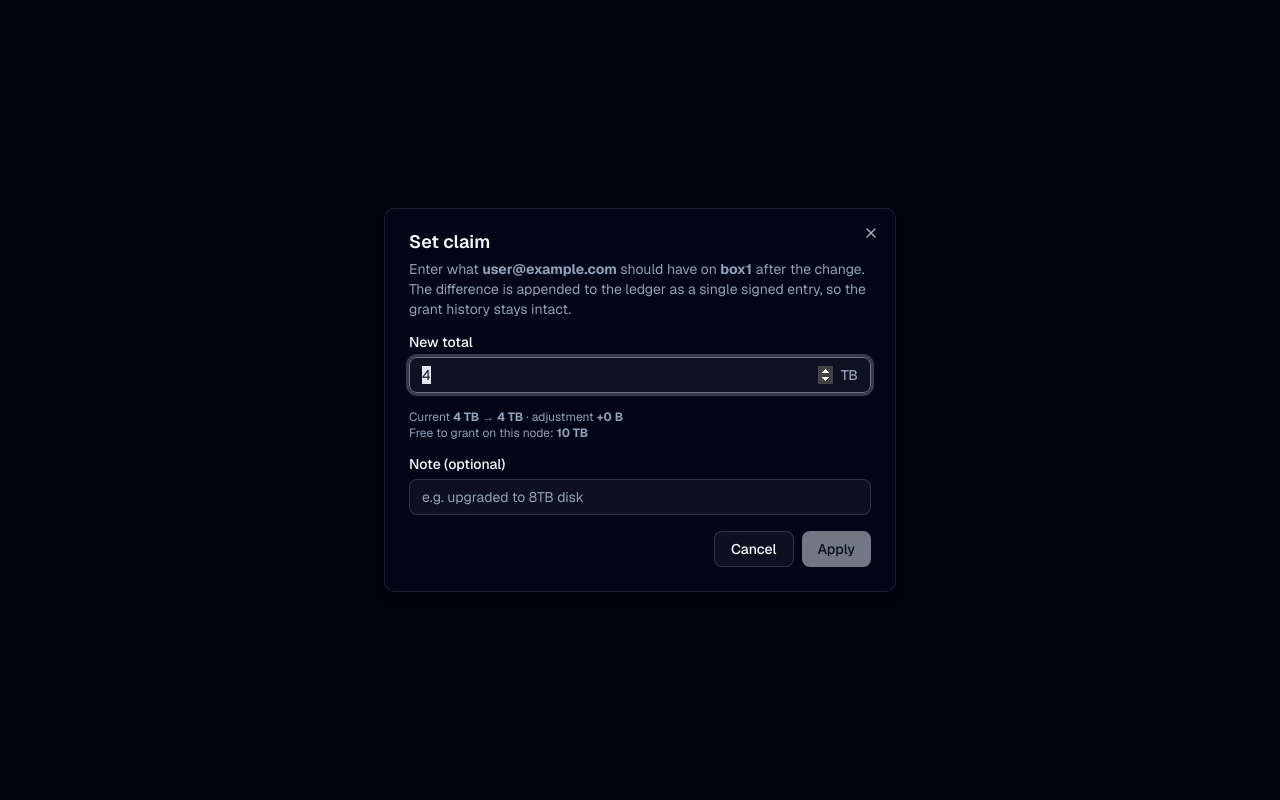
SetClaimDialog › shows the signed delta as the admin types
The image size is (1280, 800).
Replace the text in the number field labelled "New total" with "6" at (625, 375), box [410,357,841,393]
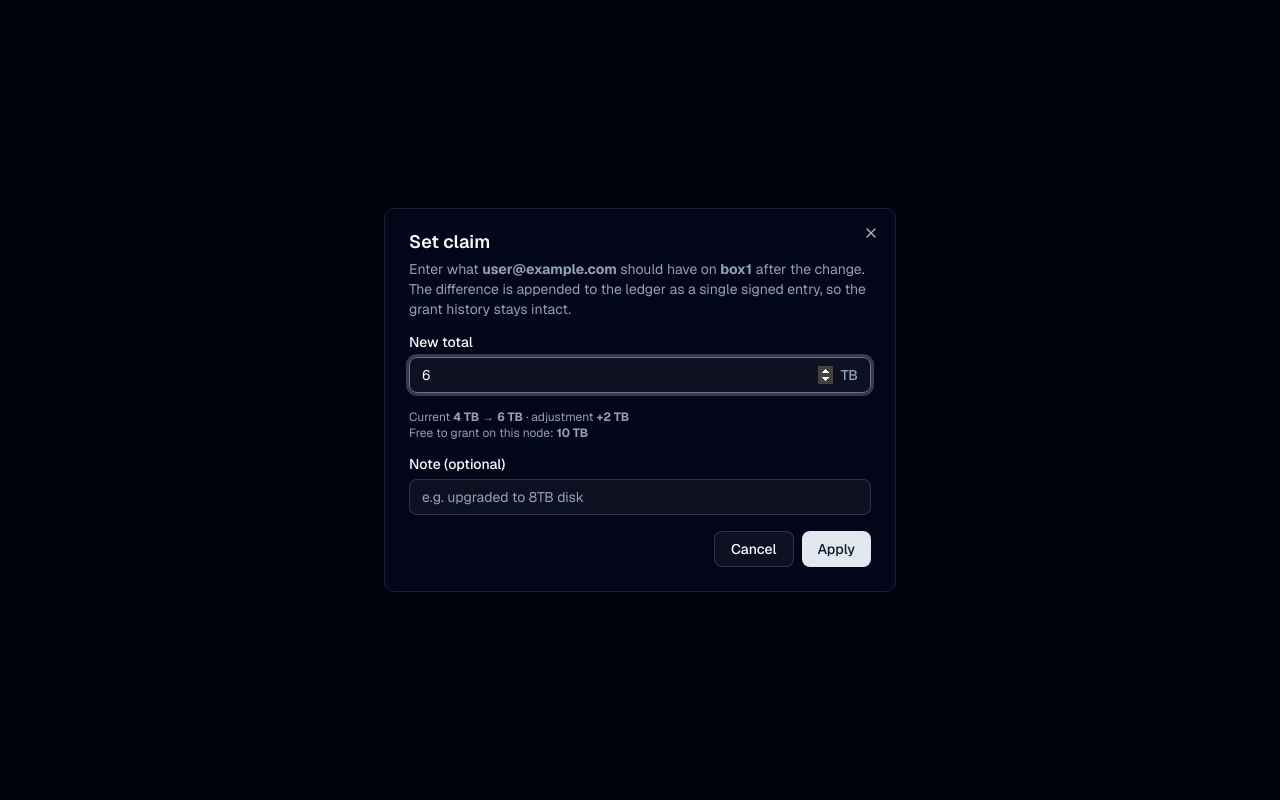
Check: the text with test id "set-claim-delta" reads "+2 TB", box [596,409,629,425]
Replace the text in the number field labelled "New total" with "3" at (625, 375), box [410,357,841,393]
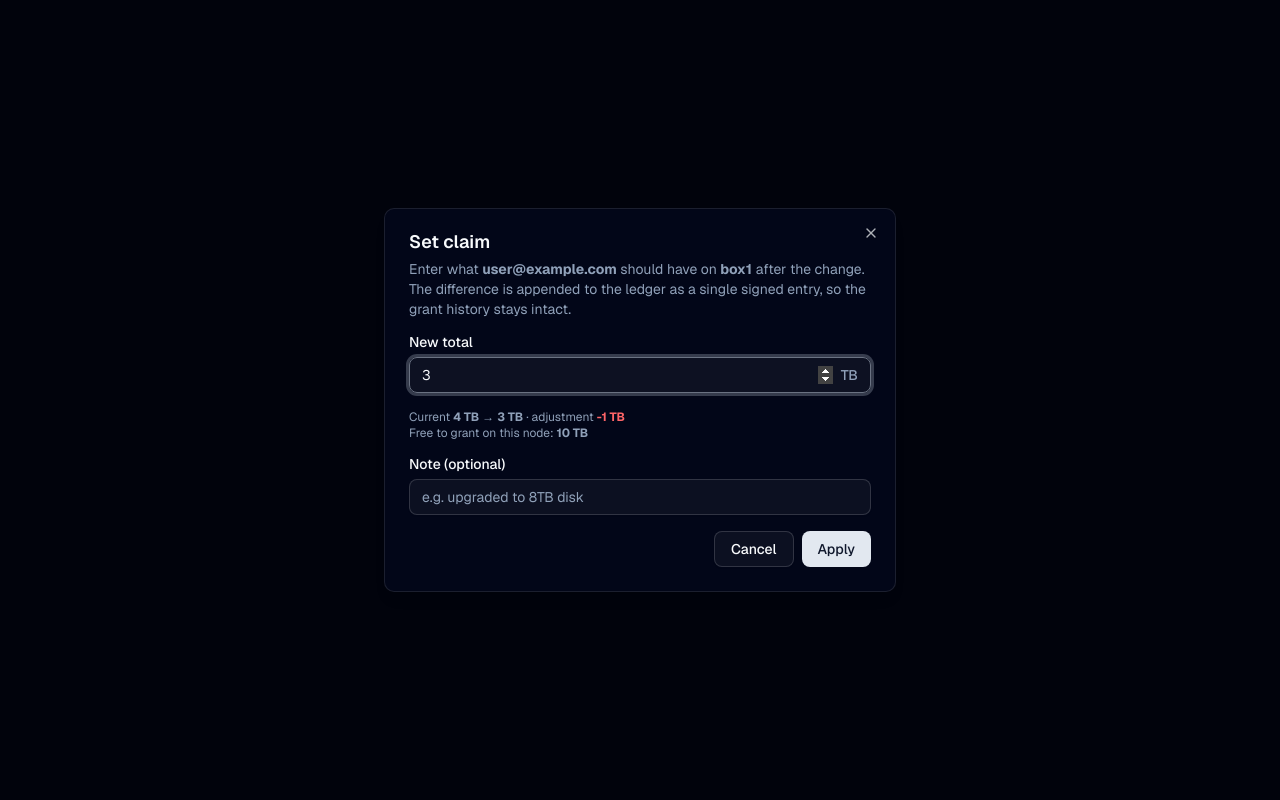
Check: the text with test id "set-claim-delta" reads "-1 TB", box [597,409,625,425]
